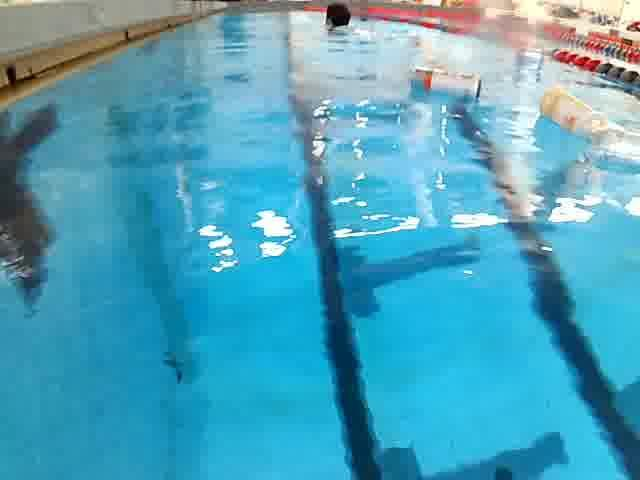Bottle: (526, 75, 636, 164)
Can: (400, 55, 489, 106)
